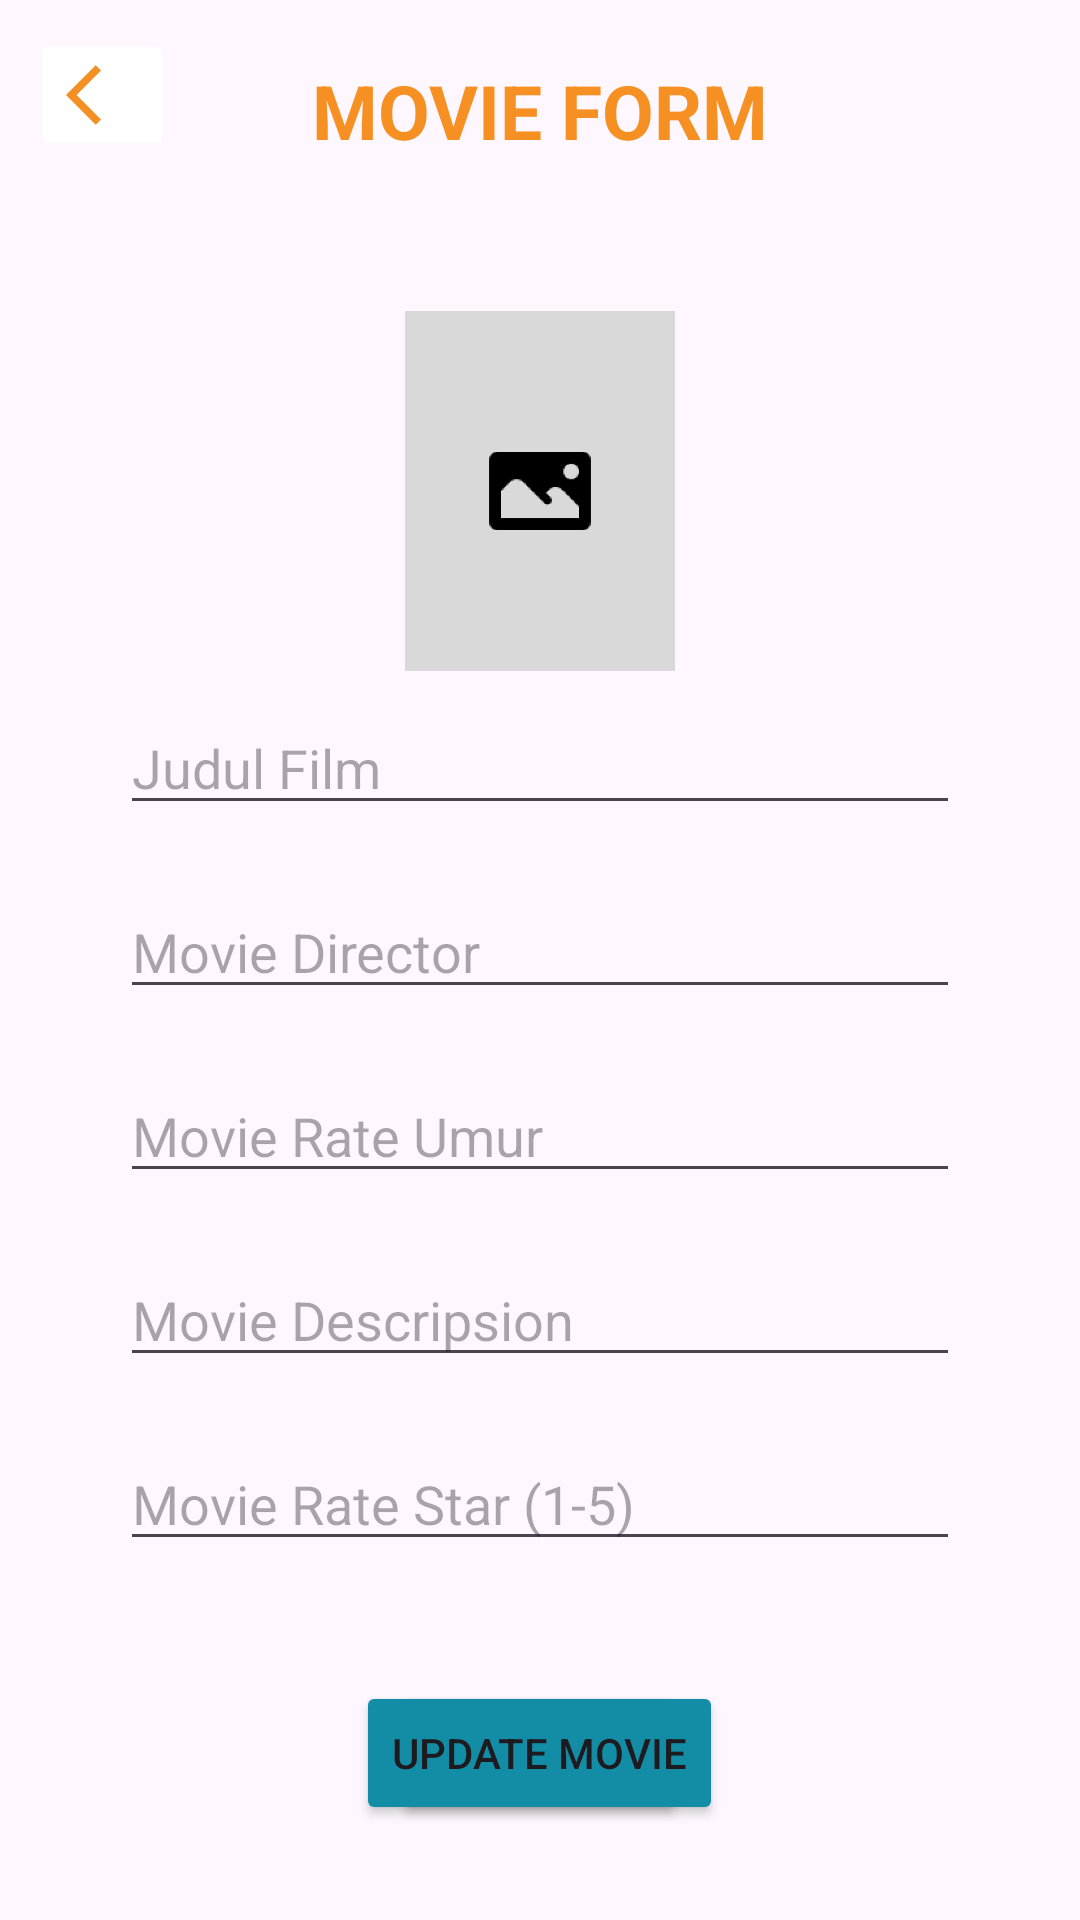

Locate icon controls on the screen. Image size 1080w x 1920h, boxes as (x1, y1, x2, y2).
arrow back: (66, 65, 101, 125)
